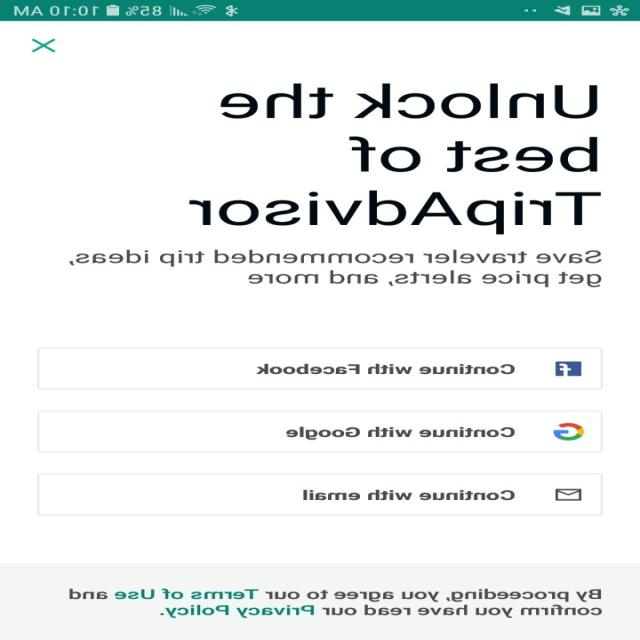Icon: (32, 38, 57, 52)
Text: (189, 83, 602, 235), (69, 248, 603, 288), (69, 588, 603, 618)
TextButton: (37, 347, 603, 390), (37, 410, 603, 452), (38, 474, 604, 516)
